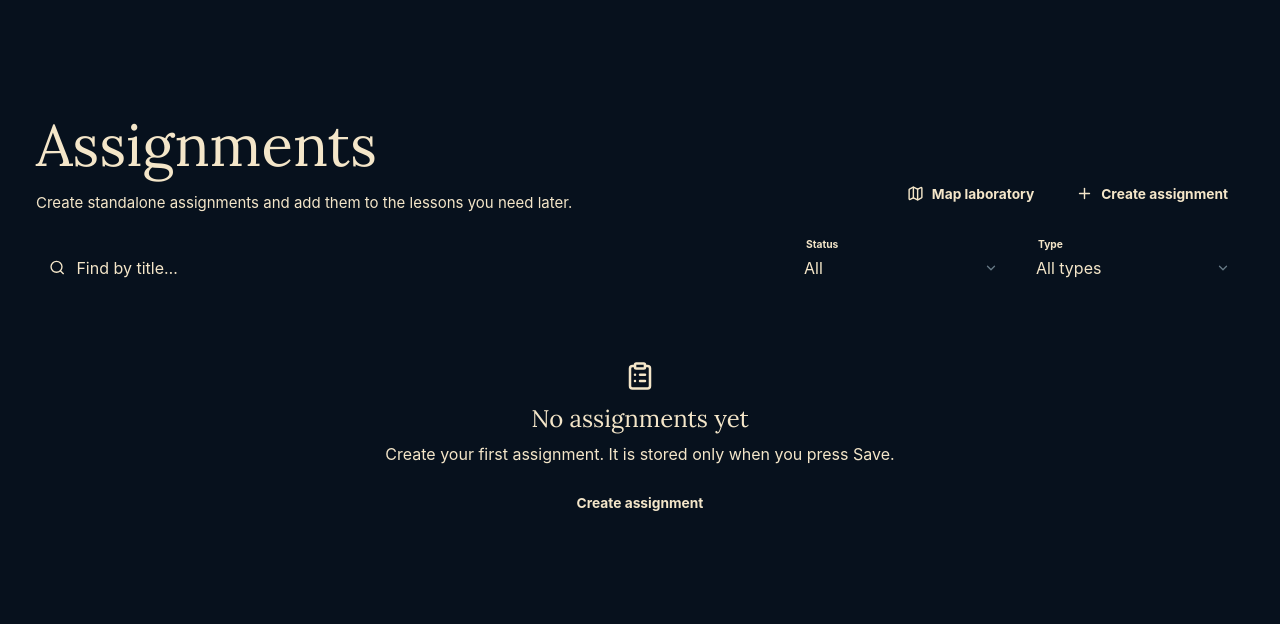
teacher assignment workspace › shows every planned type without creating a database record
What coordinates should you click on to do the following:
click the button "Create assignment" next to "Map laboratory"
I would click on:
 (1152, 194)
Its box is left=1060, top=173, right=1244, bottom=215.
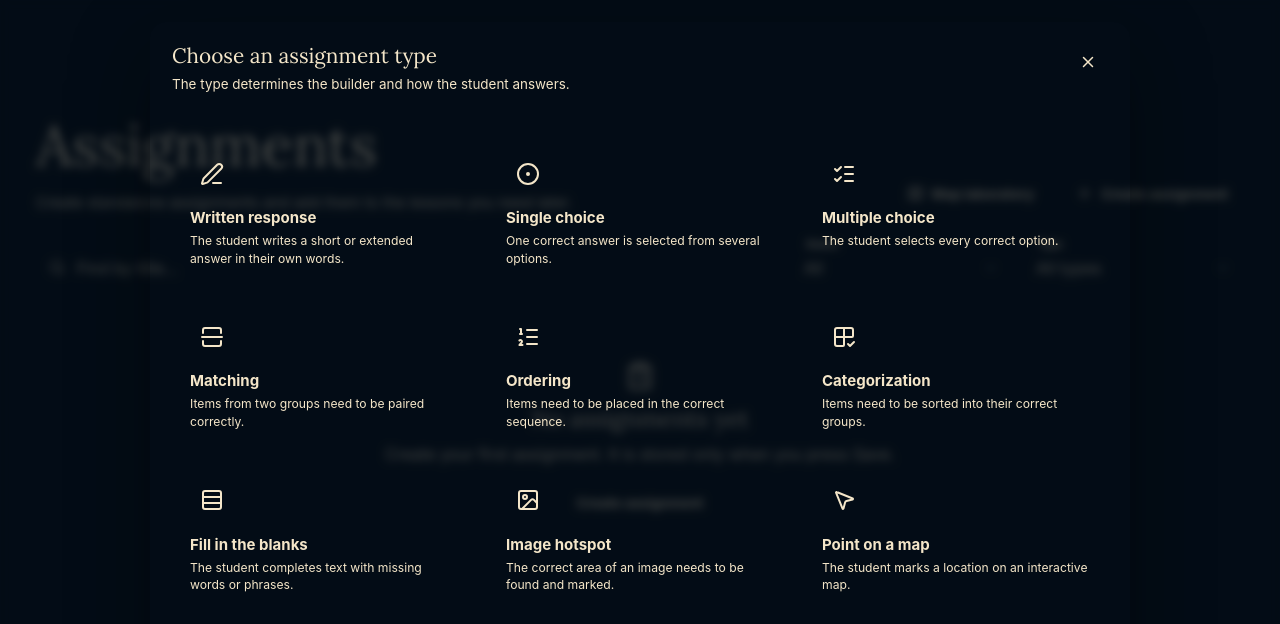
expect the button "Written response" is enabled: met
expect the button "Single choice" is enabled: met, box left=488, top=134, right=792, bottom=286
expect the button "Matching Items from two groups need to be paired correctly." is enabled: met, box left=172, top=297, right=476, bottom=449
What coordinates should you click on to do the following:
click the button "Written response"
I would click on:
 (253, 218)
Its box is left=172, top=134, right=476, bottom=286.
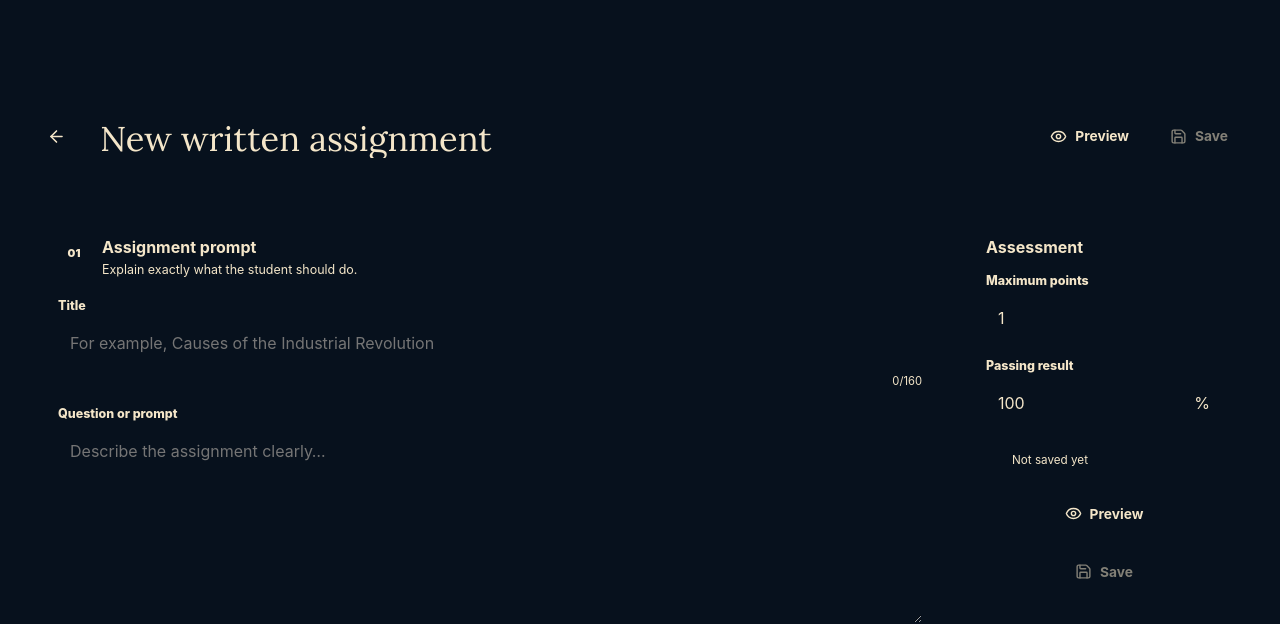
expect the heading "New written assignment" is shown: met, box left=100, top=116, right=492, bottom=160
